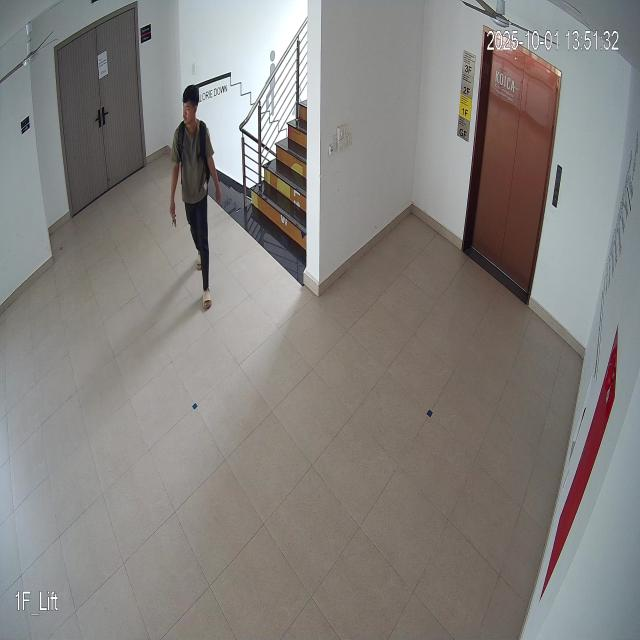face: (180, 84, 202, 130)
